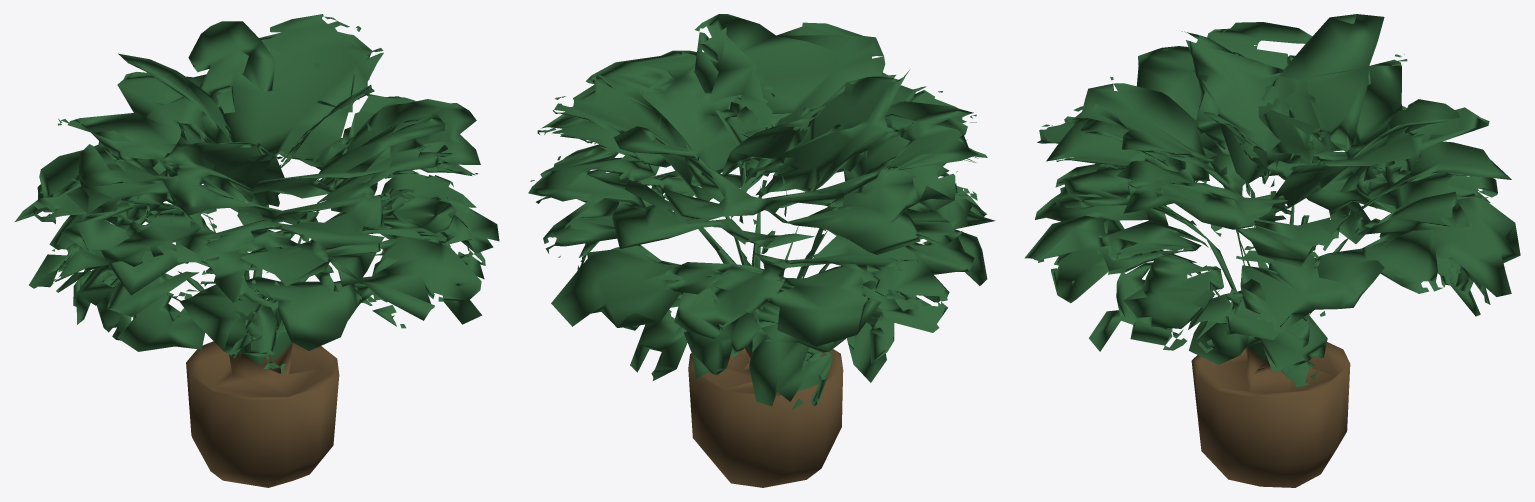
The model's file is petite_plante_1.glb.
The picture shows the model from 3 angles, left to right: view 1: azimuth 30°, elevation 25°; view 2: azimuth 150°, elevation 25°; view 3: azimuth 270°, elevation 25°; orthographic projection. The views are drawn at different scales.
Parts seen in each view (by area): view 1: Mesh1; view 2: Mesh1; view 3: Mesh1.
Boxes of the visible parts, box(x1,y1,x2,y2) form: Mesh1: box(15, 14, 499, 487); Mesh1: box(528, 14, 995, 487); Mesh1: box(1024, 14, 1520, 487).
Bounding box in the file's own units: 1.86 × 1.71 × 1.87.
